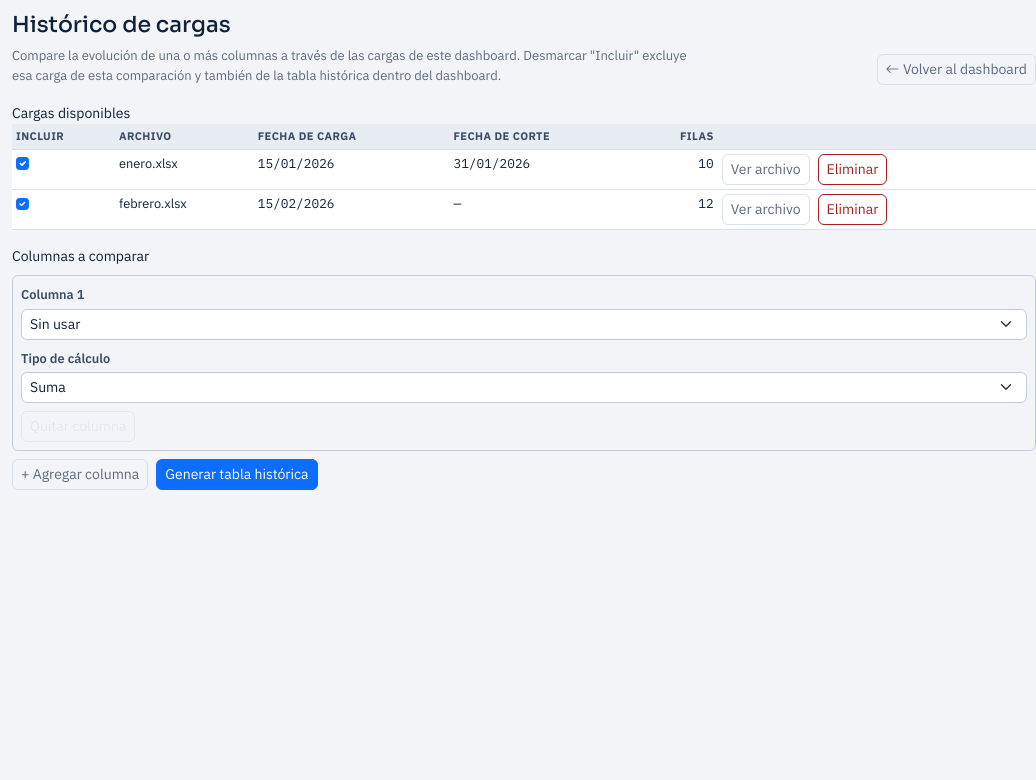
Test: DashboardHistoricoPage › genera la tabla histórica y la muestra con GenericDataTable
This screenshot has width=1036, height=780.
Expected: the text "enero.xlsx" is shown, x1=115 y1=149 x2=254 y2=190
Select "Ventas" in the dropdown named "Columna 1 de histórico": (524, 324) x1=21 y1=309 x2=1027 y2=340
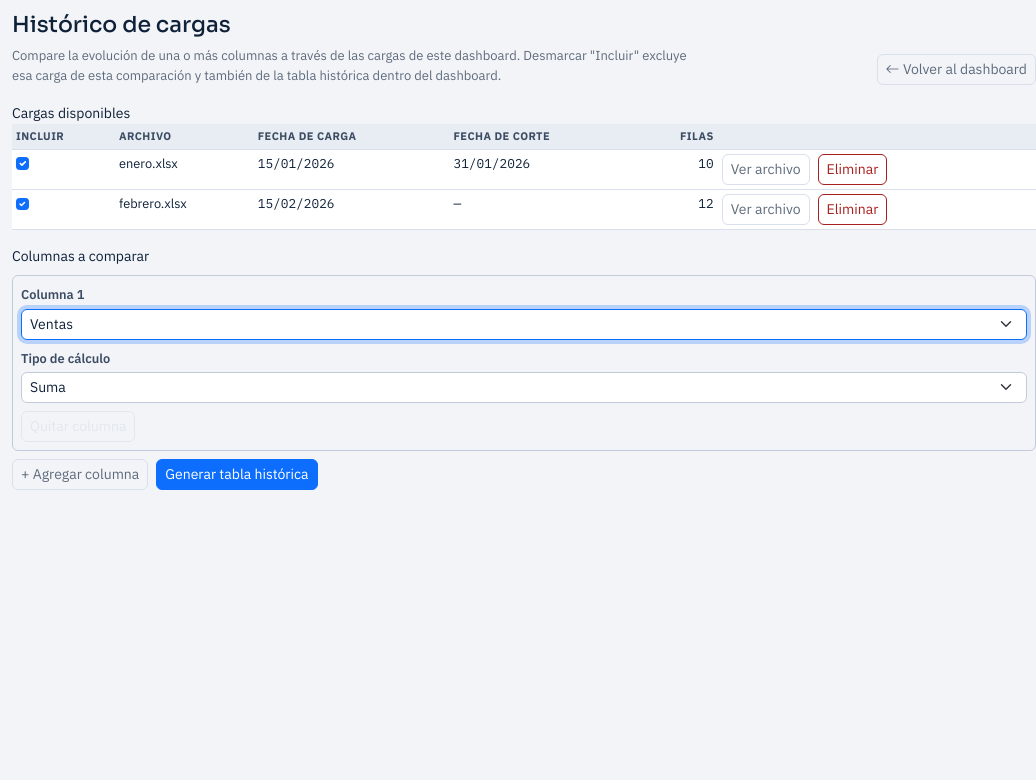
Click the button "Generar tabla histórica": (237, 474) x1=156 y1=459 x2=318 y2=490
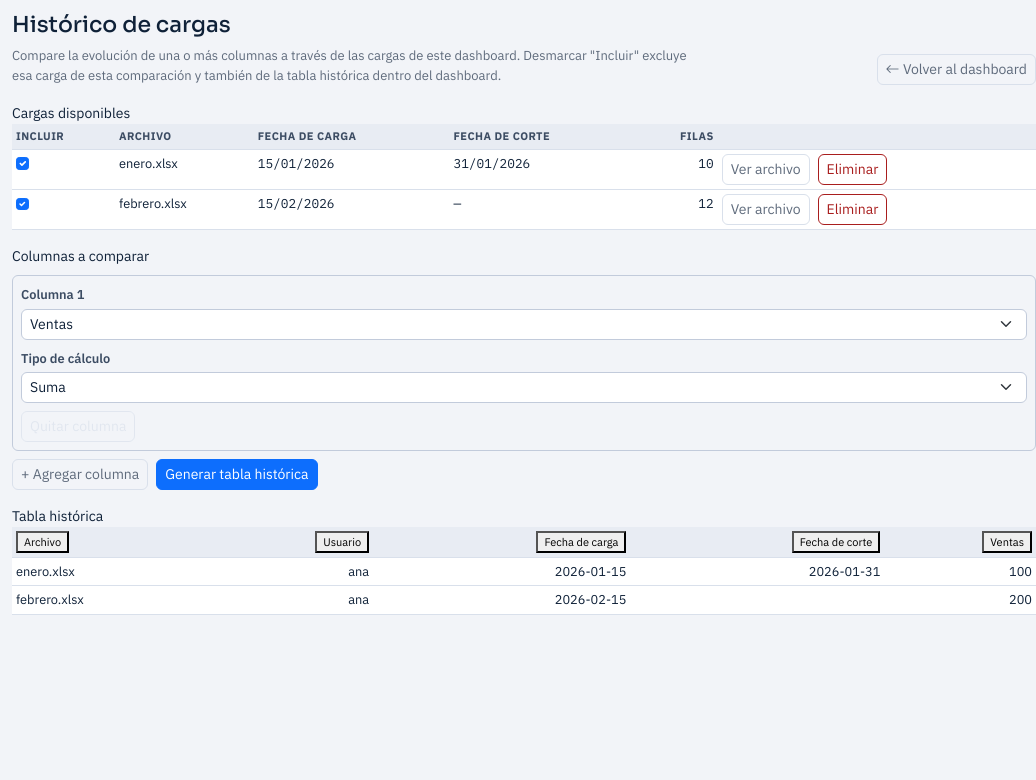
Result: the text "Tabla histórica" is shown at x1=12 y1=507 x2=103 y2=525
